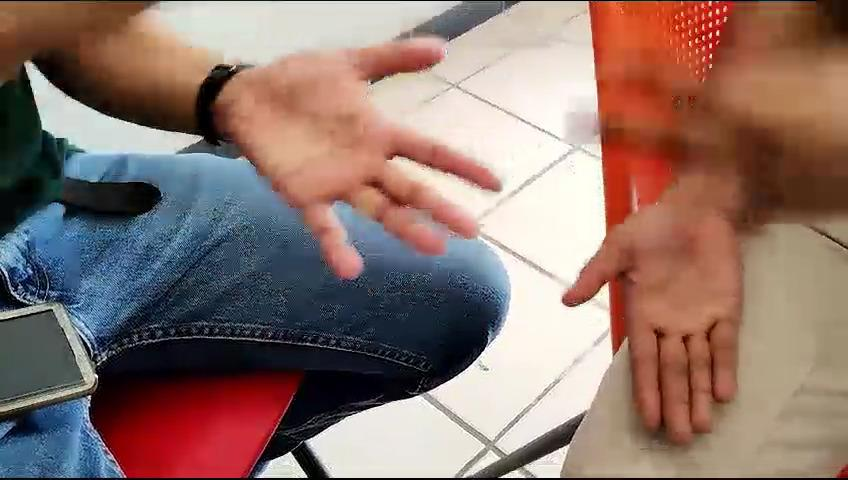Paper: (208, 30, 514, 290), (567, 205, 762, 453)
